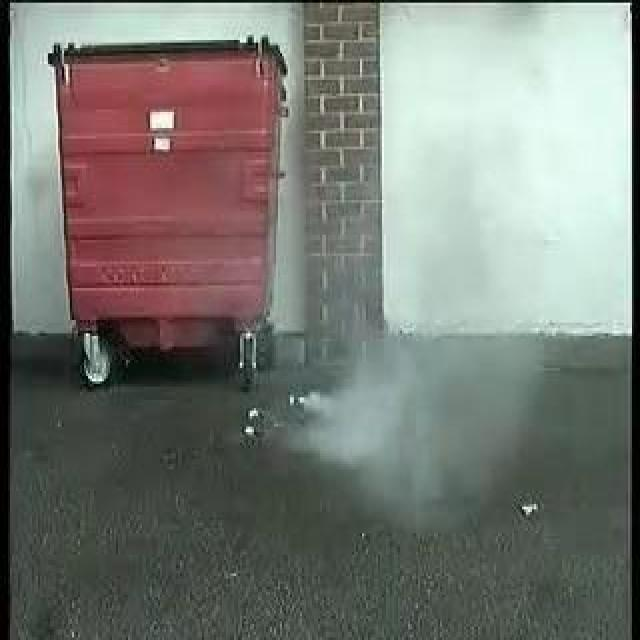Smoke: (279, 308, 497, 484)
